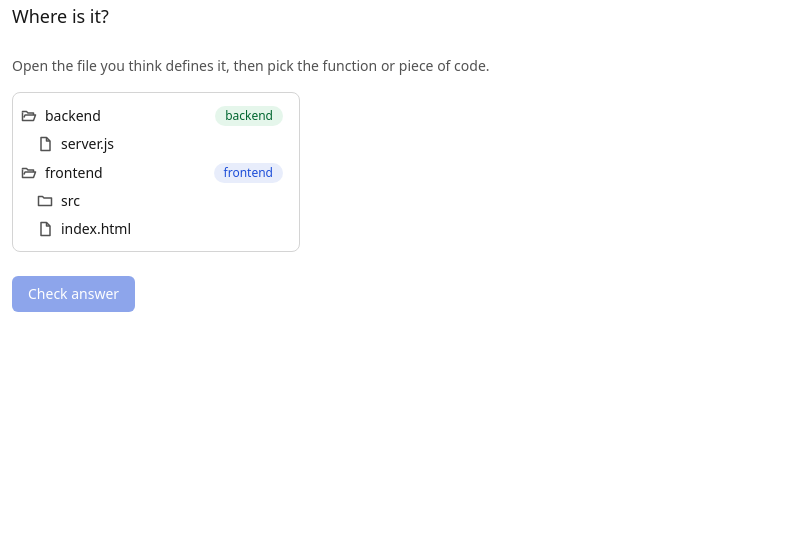
FindInput › lists a file's symbols for a symbol question and reveals the right one
Click the list item "src" at (58, 200), box [37, 191, 80, 210]
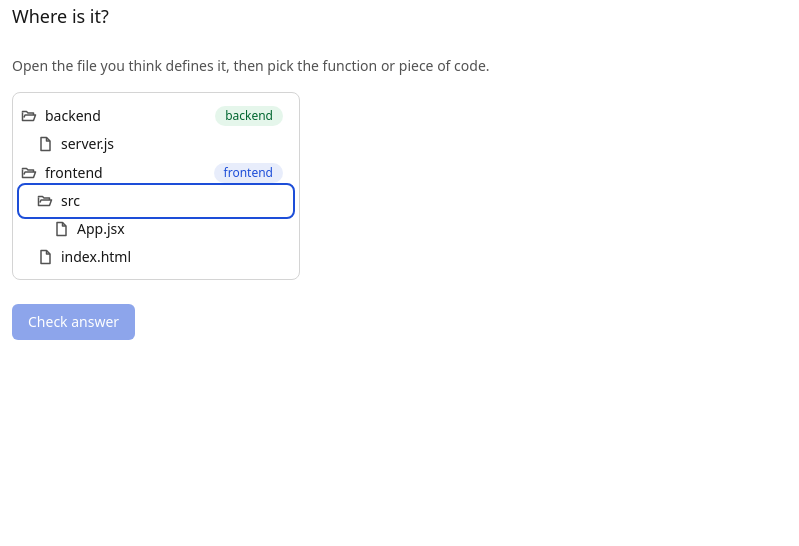
Click the list item "App.jsx" at (89, 228), box [53, 219, 125, 238]
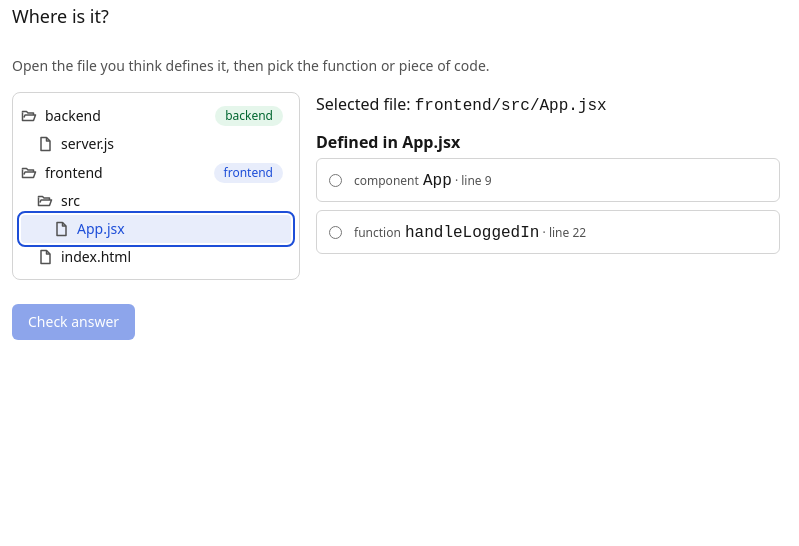
Check: the button "Check answer" is disabled, box [12, 304, 135, 340]
Click the radio button labelled "function handleLoggedIn · line 22" at (336, 232), box [329, 226, 342, 238]
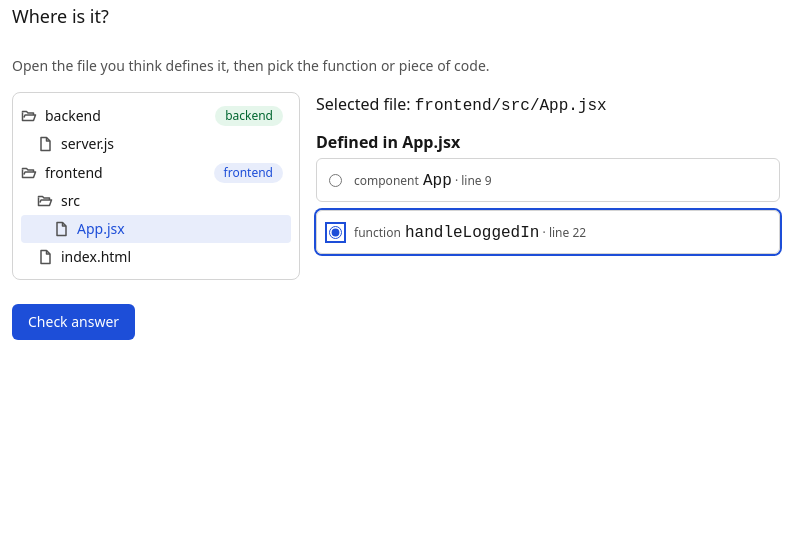
Check: the element "Defined in App.jsx" is shown, box [316, 130, 780, 254]
Click the button "Check answer" at (74, 322), box [12, 304, 135, 340]
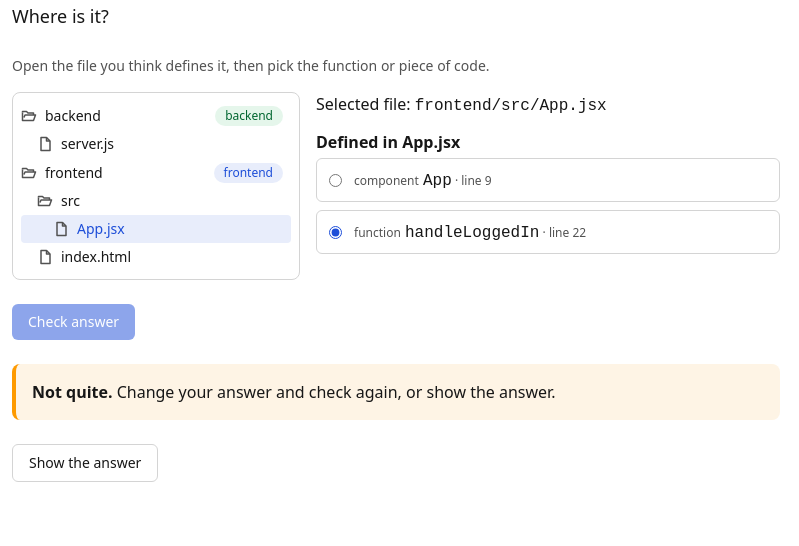
Check: the text "Right answer" is not shown
Check: the text "Not quite." is shown, box [32, 381, 112, 403]
Click the button "Show the answer" at (85, 463), box [12, 444, 158, 482]
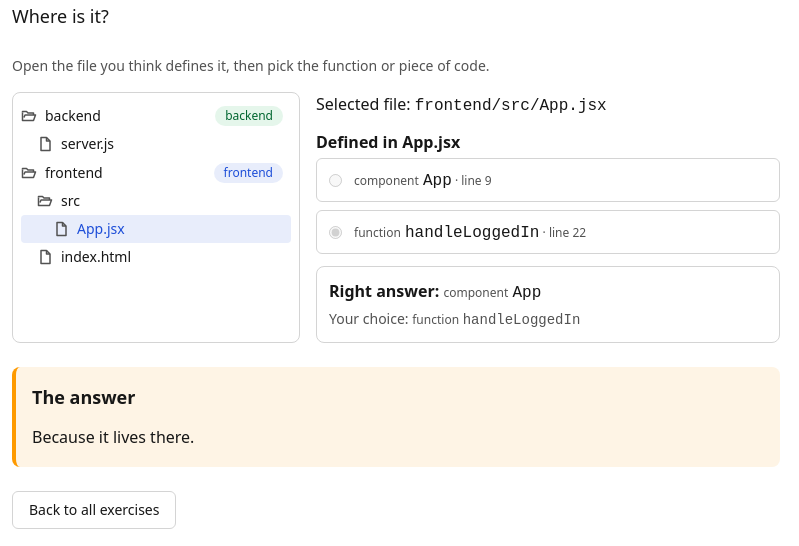
Check: the element showing "Right answer: component App" is shown, box [329, 280, 541, 302]
Check: the text "Your choice: function handleLoggedIn" is shown, box [329, 309, 580, 328]
Check: the radio button labelled "component App · line 9" is disabled, box [329, 174, 342, 186]
